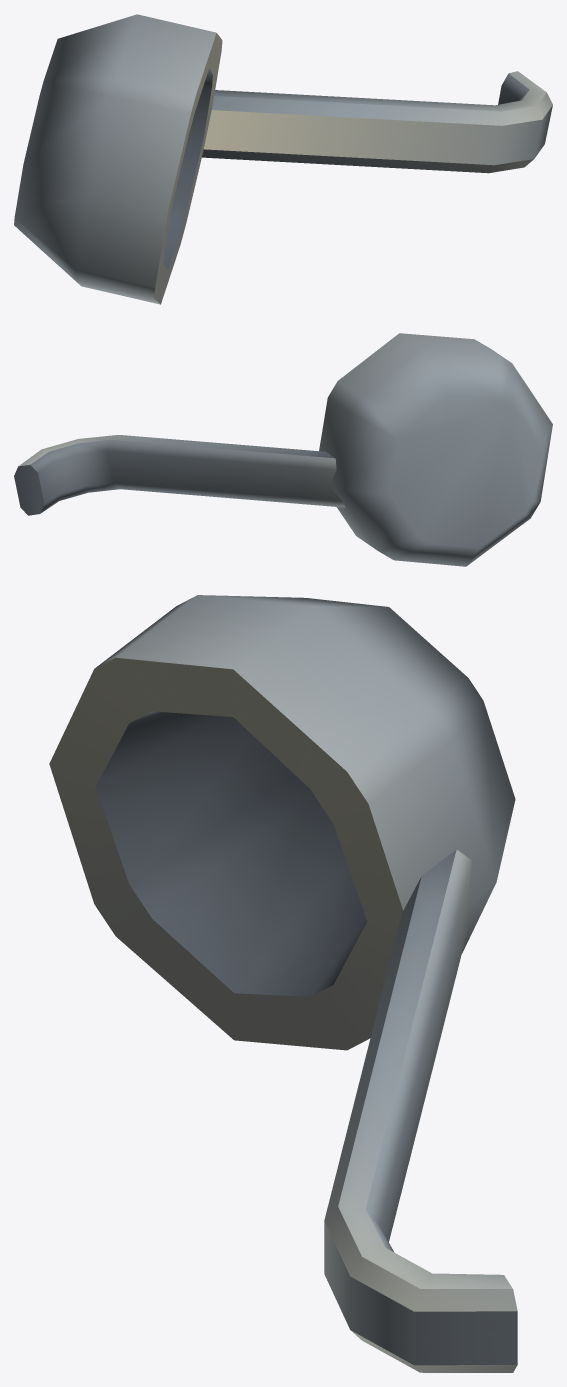
The model's file is laddle_lying_side.fbx.
3 views of the same model, one above another, from view 1: azimuth 30°, elevation 25°; view 2: azimuth 150°, elevation 25°; view 3: azimuth 270°, elevation 25° (orthographic). The views are drawn at different scales.
Parts seen in each view (by area): view 1: laddle_lying_side; view 2: laddle_lying_side; view 3: laddle_lying_side.
Boxes of the visible parts, bbox=[...] form: laddle_lying_side: bbox=[14, 14, 552, 304]; laddle_lying_side: bbox=[14, 333, 552, 566]; laddle_lying_side: bbox=[49, 595, 517, 1372].
Size of the model in its own units: 43.24 by 19.4 by 18.96.
